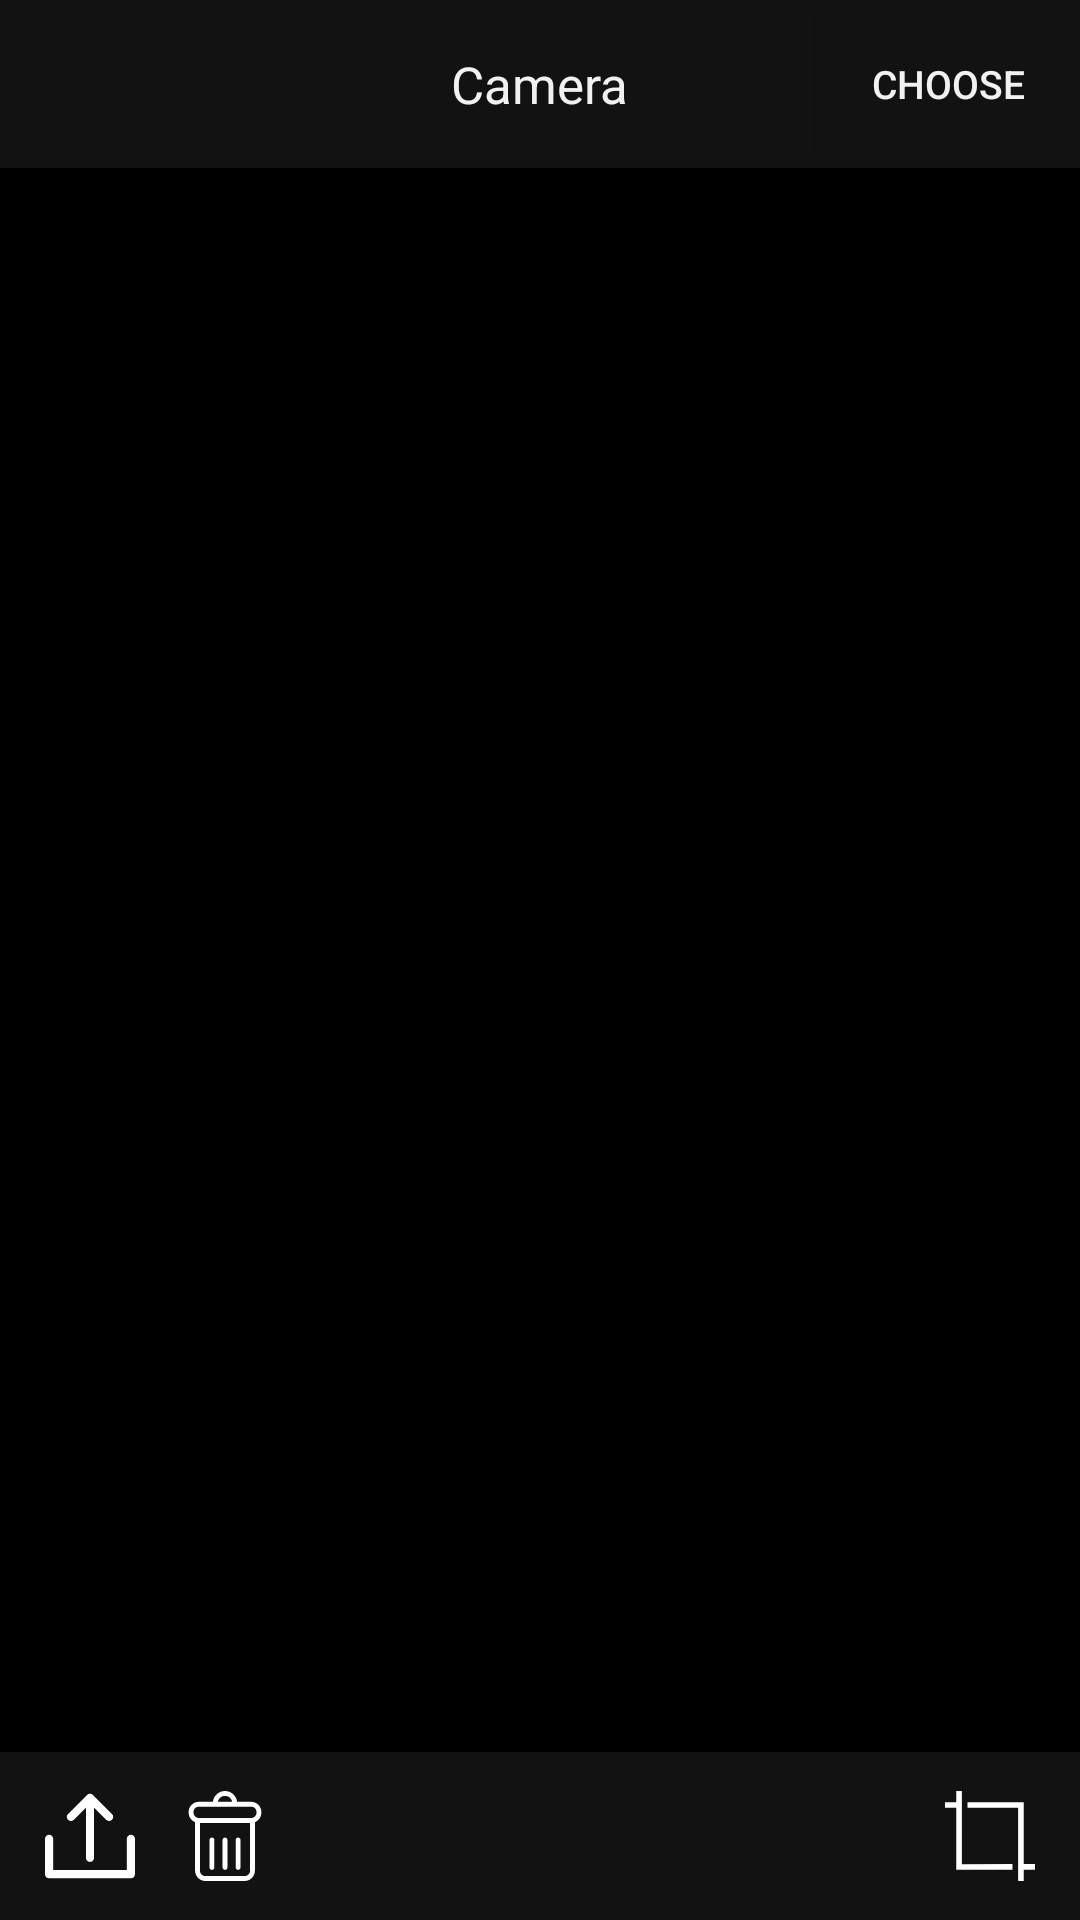

Icons on this 1080*1920 Android screen, each with the point to tap as [x,y]:
crop: [990,1836]
delete layout: [225,1836]
upload: [90,1836]
